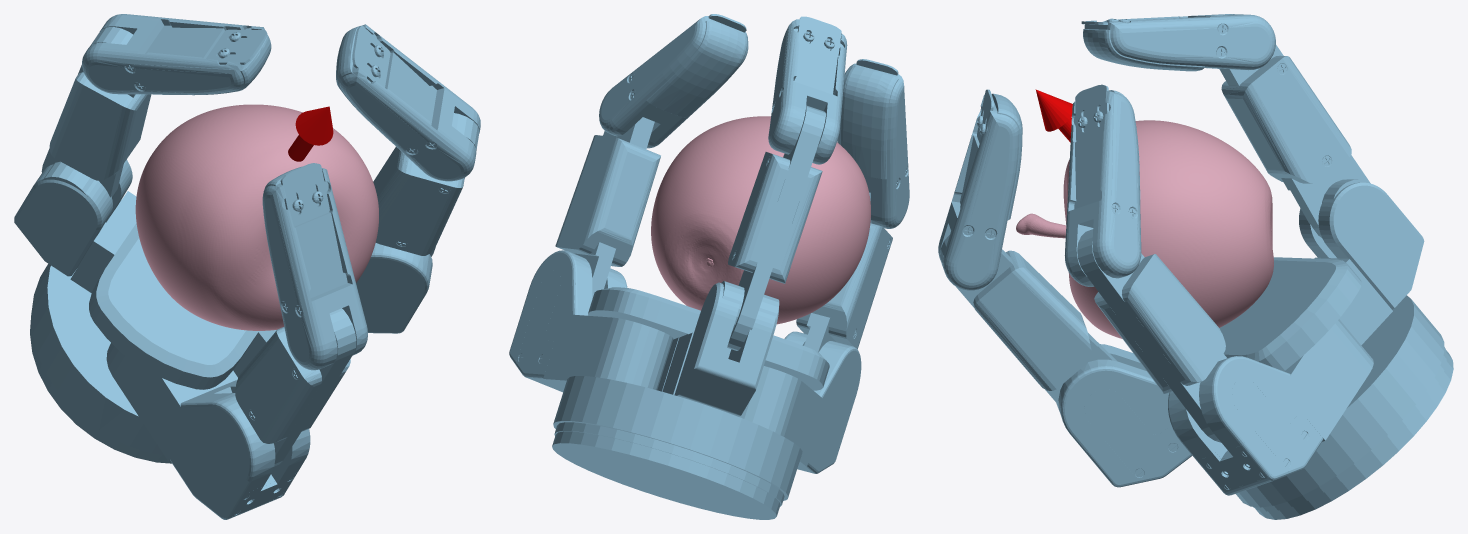
3 renders of one model, left to right at view 1: azimuth 30°, elevation 25°; view 2: azimuth 150°, elevation 25°; view 3: azimuth 270°, elevation 25°, orthographic. The views are drawn at different scales.
Visible parts, largest first — view 1: world, apple.stl; view 2: world, apple.stl; view 3: world, apple.stl.
Boxes of the visible parts, bbox=[...] form: world: bbox=[14, 14, 480, 519]; apple.stl: bbox=[135, 104, 378, 330]; world: bbox=[509, 14, 909, 519]; apple.stl: bbox=[651, 116, 870, 324]; world: bbox=[938, 14, 1453, 519]; apple.stl: bbox=[1016, 120, 1273, 338].
Size of the model in its own units: 0.13 by 0.1776 by 0.1763.
